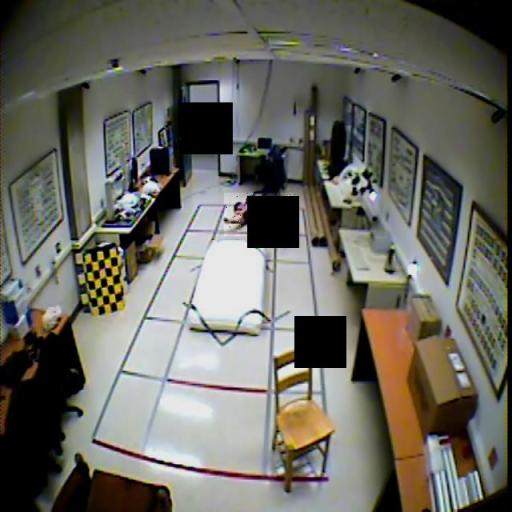Fall: (224, 193, 294, 236)
